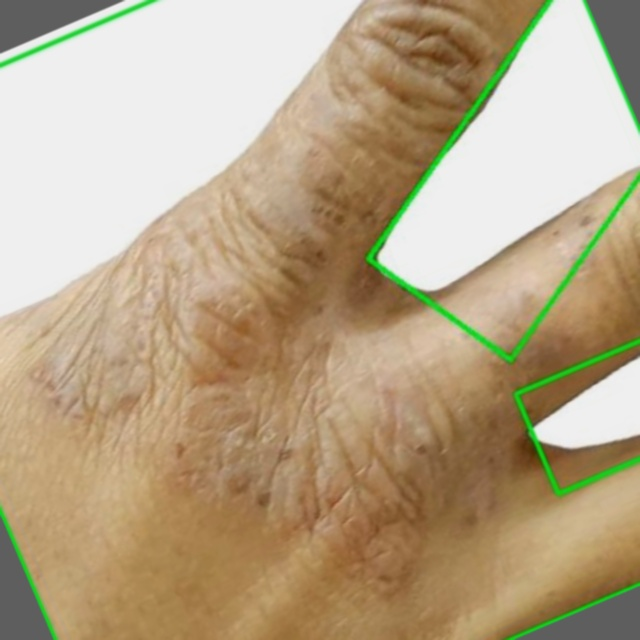Eczema: (0, 0, 639, 639), (355, 0, 631, 361)
